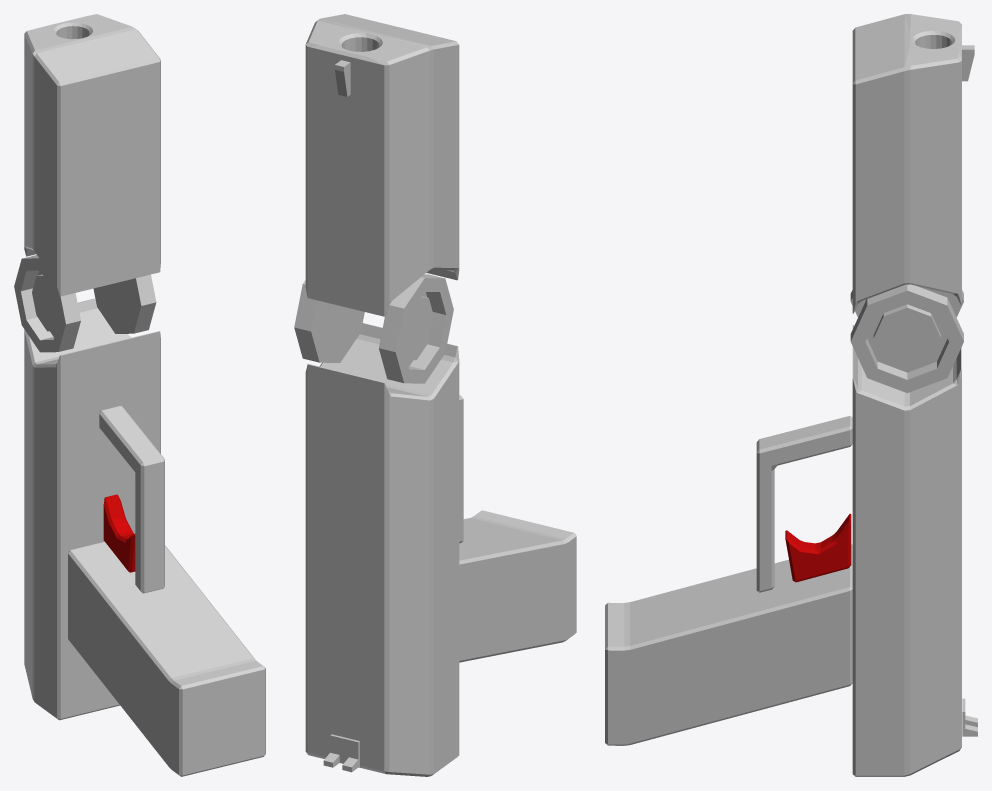
File: cyber-pistol.fbx
3 views of the same model, side by side, from view 1: azimuth 30°, elevation 25°; view 2: azimuth 150°, elevation 25°; view 3: azimuth 270°, elevation 25° (orthographic). The views are drawn at different scales.
Visible parts, largest first — view 1: cyber-pistol, soul-stone; view 2: cyber-pistol, soul-stone; view 3: cyber-pistol, soul-stone.
Part boxes in pixels (left/top/right/bottom): cyber-pistol: left=24, top=14, right=265, bottom=776; soul-stone: left=14, top=255, right=156, bottom=352; cyber-pistol: left=305, top=14, right=576, bottom=776; soul-stone: left=294, top=274, right=453, bottom=383; cyber-pistol: left=605, top=14, right=977, bottom=776; soul-stone: left=850, top=284, right=963, bottom=393.
Size of the model in its own units: 0.12 by 0.7164 by 0.3407.
